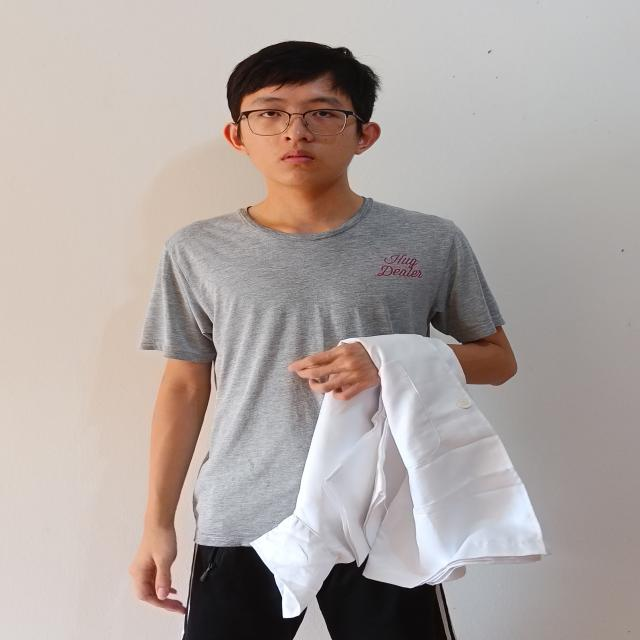person_without_labcoat: (131, 42, 541, 640)
